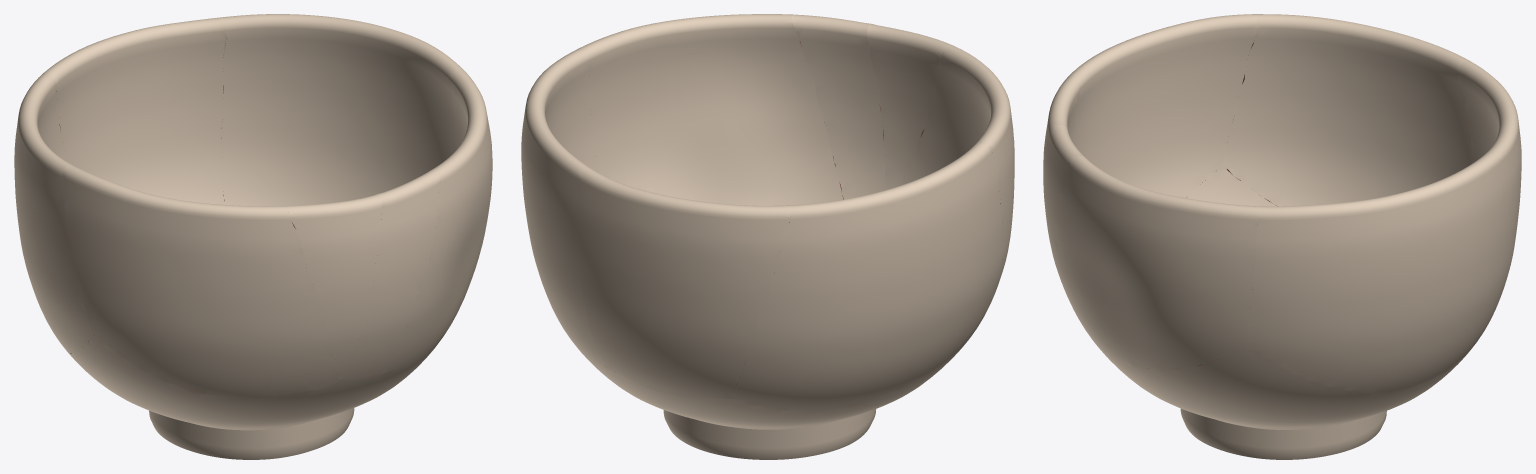
Rendered from Z0_drop.glb.
3 views of the same model, side by side, from view 1: azimuth 30°, elevation 25°; view 2: azimuth 150°, elevation 25°; view 3: azimuth 270°, elevation 25° (orthographic).
Parts seen in each view (by area): view 1: shard_03, shard_06, shard_07, shard_00, shard_04, shard_05, shard_01, shard_02; view 2: shard_05, shard_04, shard_07, shard_06, shard_00, shard_02, shard_03, shard_01; view 3: shard_06, shard_05, shard_04, shard_03, shard_00, shard_07, shard_02, shard_01.
Boxes of the visible parts, left/top/right/bottom form: shard_03: left=63, top=165, right=340, bottom=398; shard_06: left=221, top=14, right=466, bottom=206; shard_07: left=42, top=17, right=226, bottom=204; shard_00: left=68, top=322, right=452, bottom=459; shard_04: left=377, top=70, right=492, bottom=373; shard_05: left=14, top=74, right=94, bottom=353; shard_01: left=285, top=194, right=382, bottom=378; shard_02: left=340, top=170, right=440, bottom=380; shard_05: left=732, top=142, right=1003, bottom=411; shard_04: left=579, top=14, right=843, bottom=205; shard_07: left=574, top=167, right=791, bottom=398; shard_06: left=521, top=48, right=605, bottom=366; shard_00: left=582, top=284, right=997, bottom=459; shard_02: left=792, top=14, right=885, bottom=199; shard_03: left=902, top=45, right=1014, bottom=284; shard_01: left=867, top=24, right=953, bottom=189; shard_06: left=1249, top=152, right=1504, bottom=392; shard_05: left=1223, top=14, right=1471, bottom=206; shard_04: left=1056, top=156, right=1260, bottom=370; shard_03: left=1064, top=14, right=1257, bottom=197; shard_00: left=1092, top=165, right=1473, bottom=459; shard_07: left=1459, top=60, right=1521, bottom=345; shard_02: left=1043, top=125, right=1084, bottom=292; shard_01: left=1043, top=78, right=1079, bottom=185.
Bounding box in the file's own units: 0.1228 × 0.0871 × 0.122.
